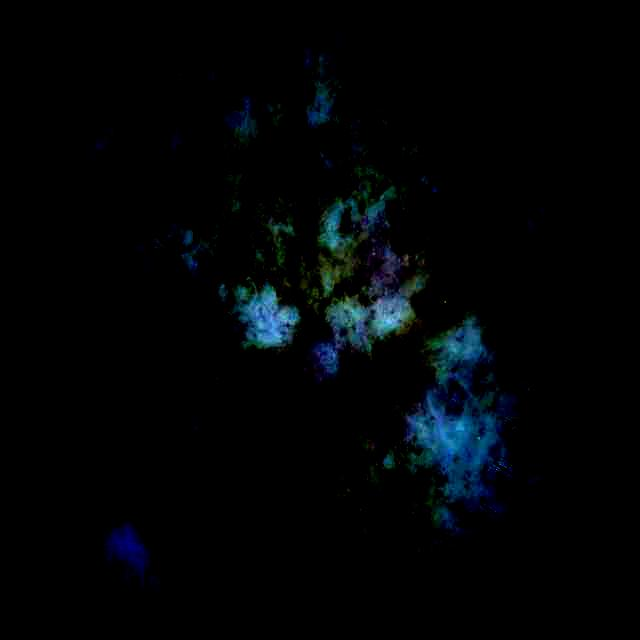MEL: (75, 33, 509, 637)
